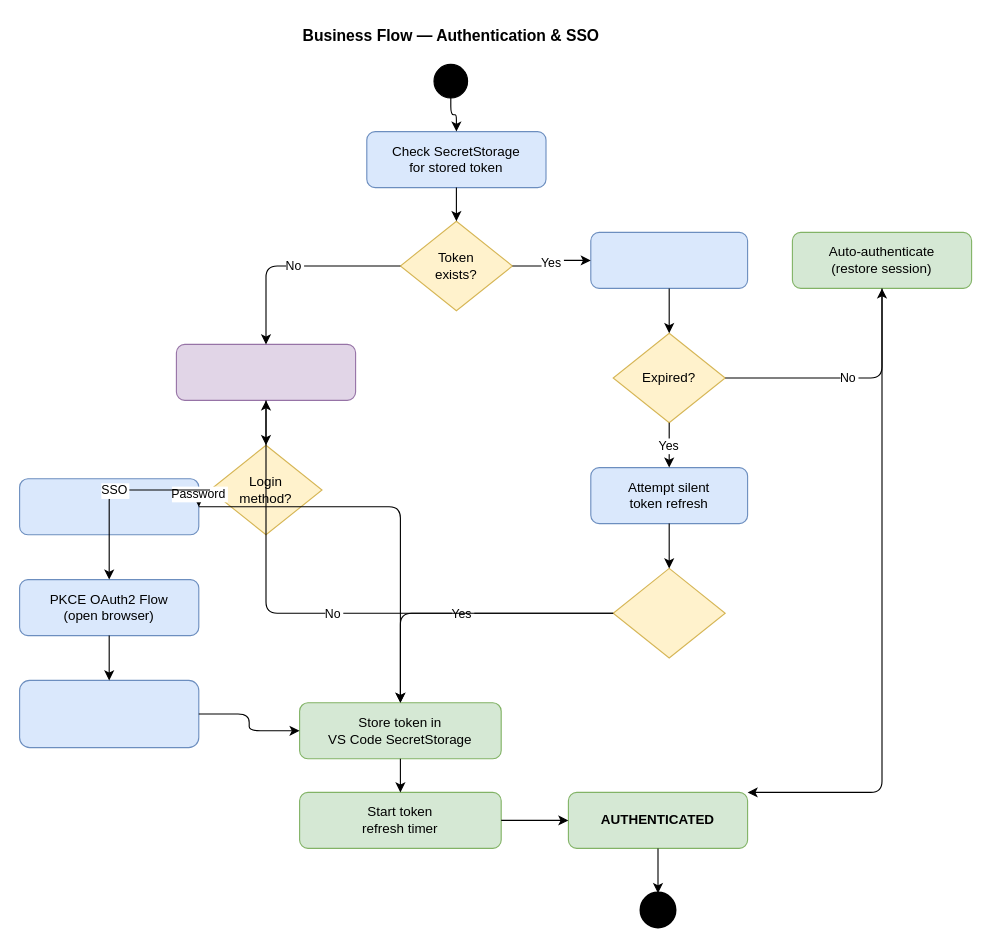
Image size: 991x948. Some labels were removed from this diagram. The box of each missing label's shape, as (x1, y1, x2, y2) in pixels:
Check token expiry: (590, 231, 748, 288)
Exchange auth code + code_verifier for token: (18, 679, 199, 748)
POST credentials to /api/admin/auth/login: (18, 478, 199, 535)
Refresh OK?: (612, 567, 725, 658)
Show Login UI (Command Palette): (175, 343, 356, 400)
